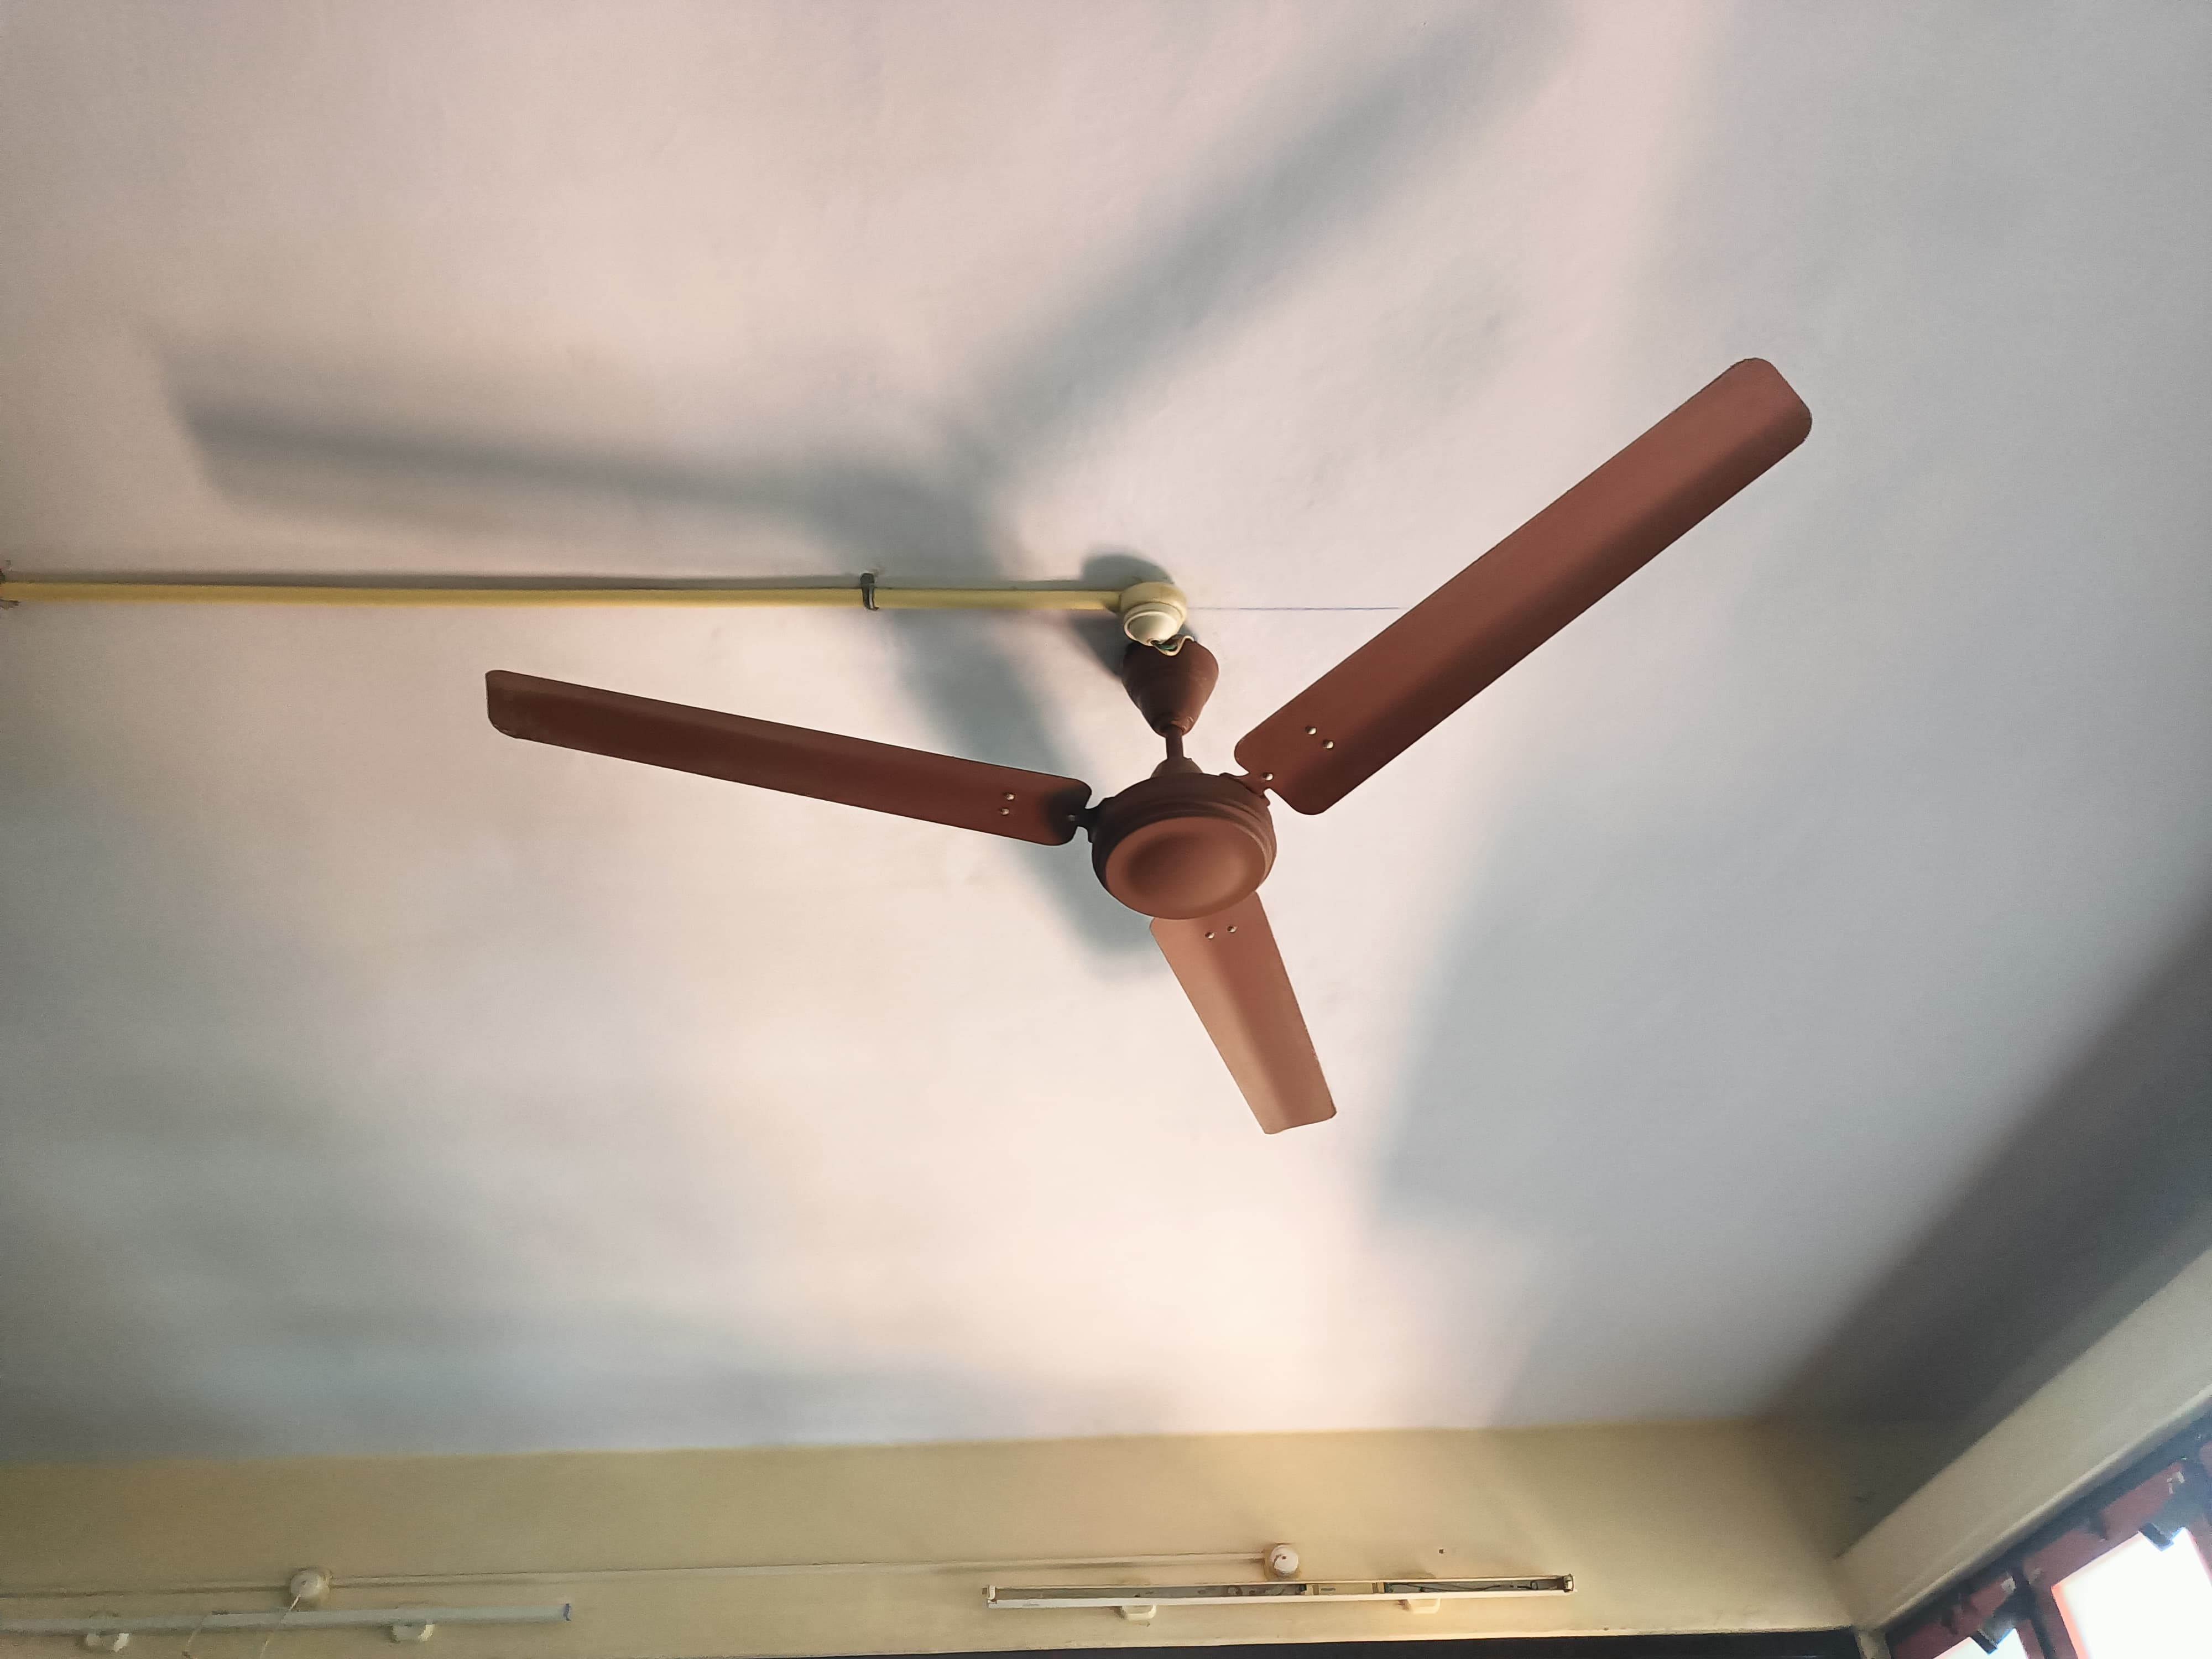Fan: (486, 350, 1810, 1134)
